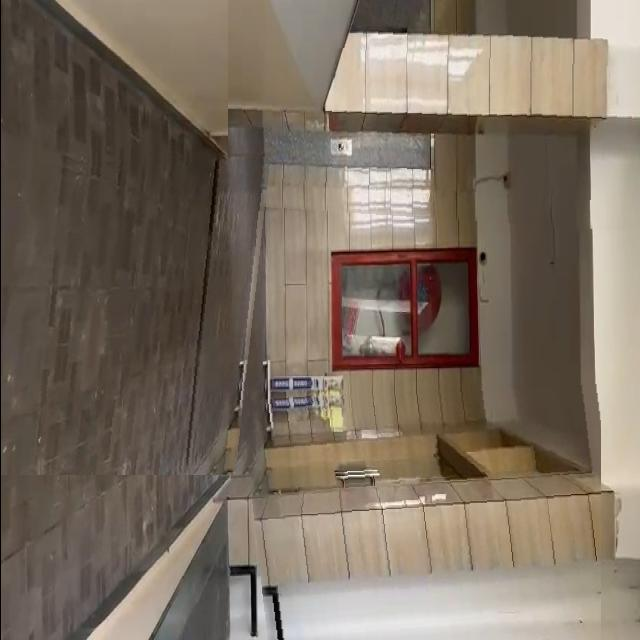floor: (0, 152, 270, 475)
wall: (227, 0, 640, 232), (240, 379, 600, 640)
